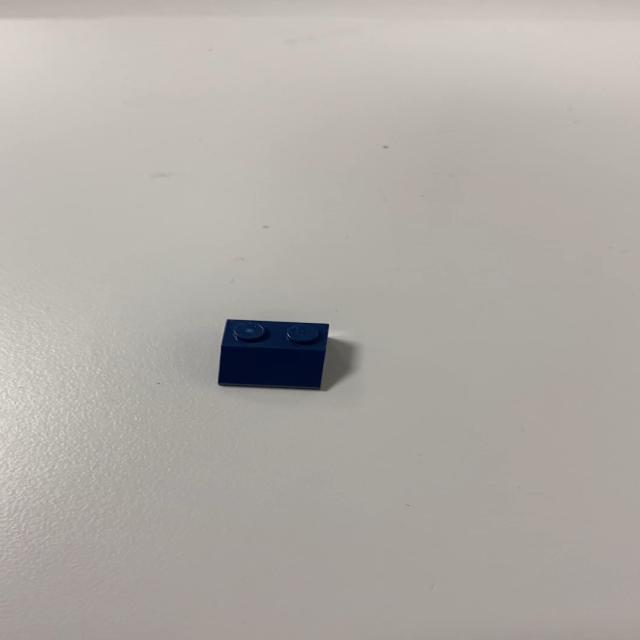P2x2x1: (216, 315, 330, 388)
